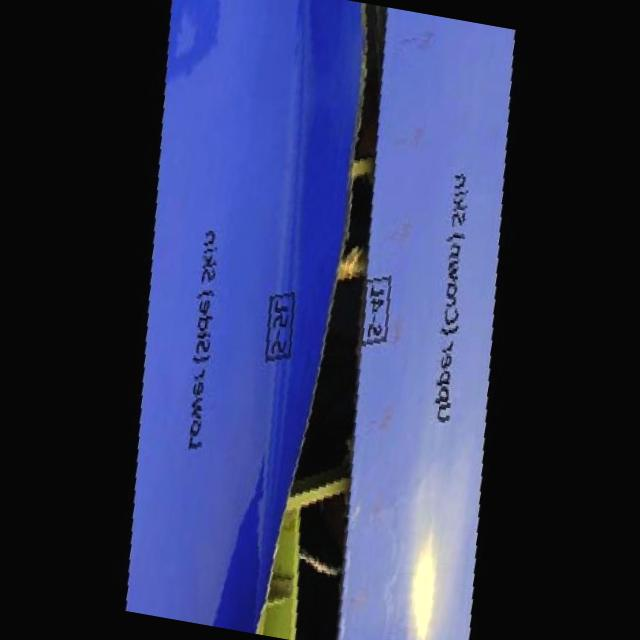crack: (241, 3, 450, 640)
